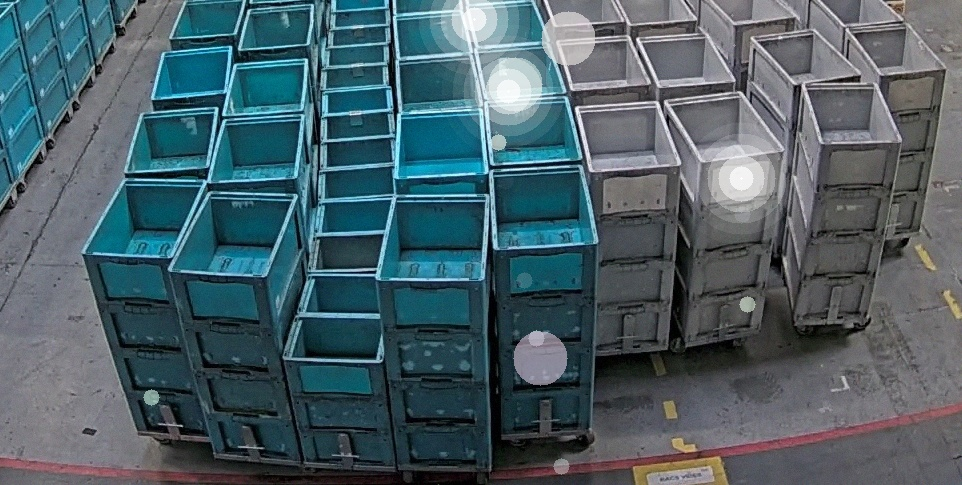4G: (663, 90, 785, 345), (780, 81, 903, 321), (575, 100, 682, 352), (843, 22, 947, 235)
B4: (166, 188, 309, 463), (78, 177, 210, 440), (374, 192, 492, 472), (486, 163, 601, 434)
B8: (281, 272, 401, 469)
